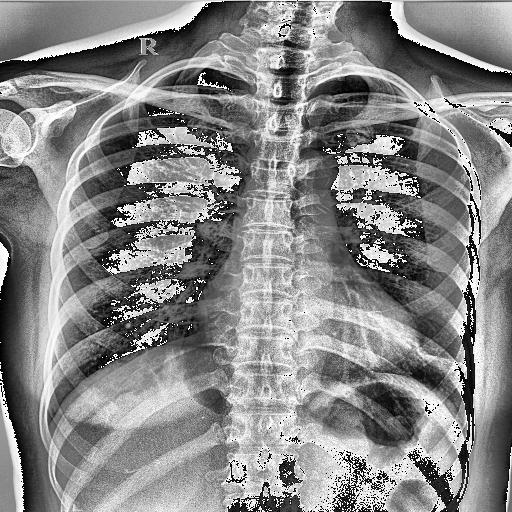1- Atelectasis: (401, 342, 472, 386), (419, 350, 474, 388)
13- Pulmonary fibrosis: (401, 334, 471, 387)
